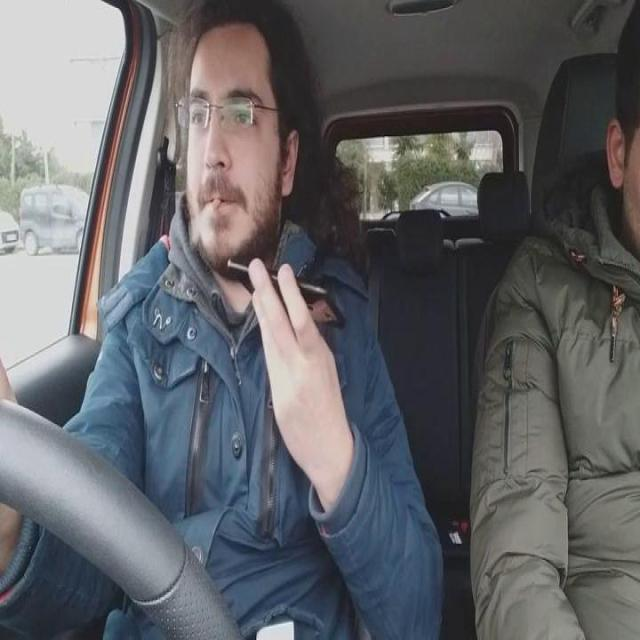phone: (223, 258, 350, 328)
